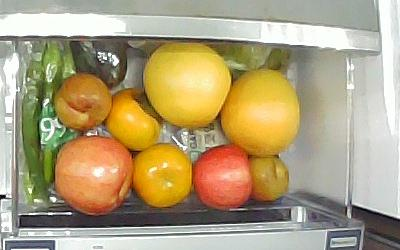apple: (54, 135, 134, 216), (193, 145, 252, 210)
grapefruit: (143, 41, 232, 129), (221, 68, 301, 157)
persimmon: (133, 143, 193, 208), (107, 88, 161, 151)
prune: (52, 73, 112, 132), (248, 155, 288, 203)
